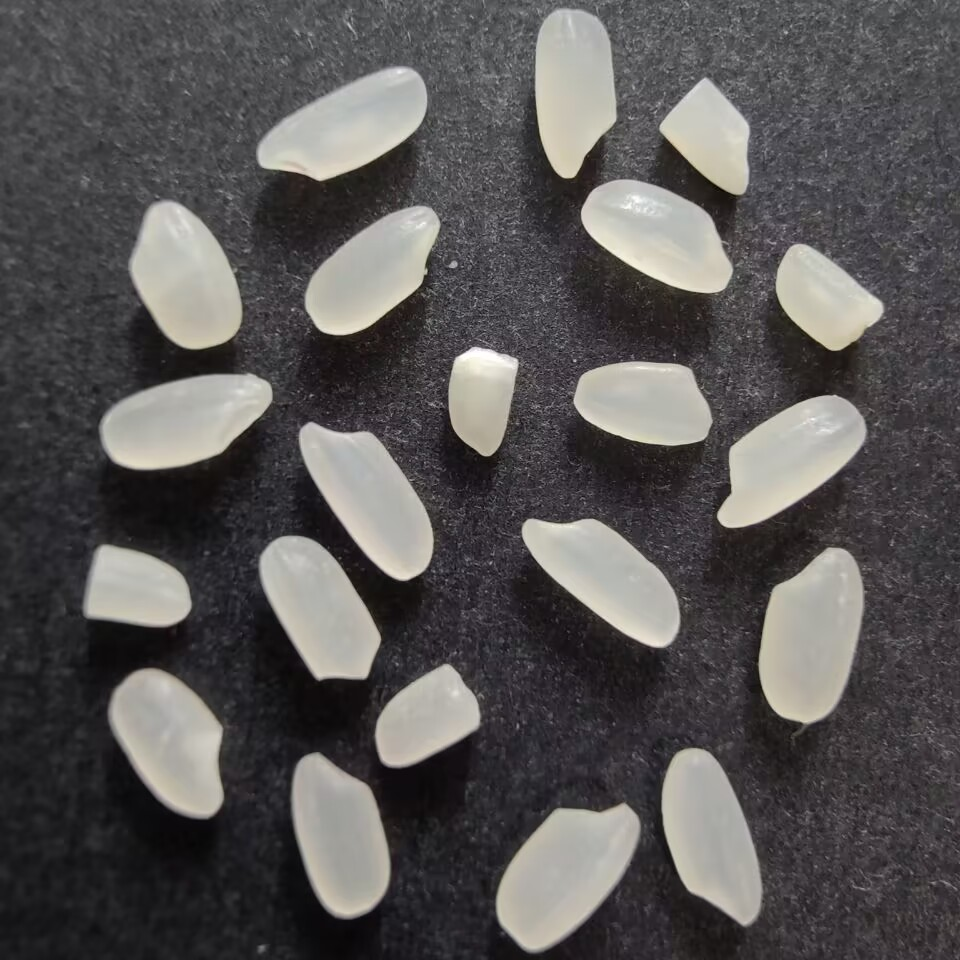broken: (773, 239, 887, 354), (371, 659, 483, 772), (657, 74, 757, 197), (79, 544, 194, 631), (443, 342, 520, 461)
rice: (296, 418, 437, 584), (518, 512, 682, 651), (495, 799, 641, 954), (713, 390, 870, 531), (251, 64, 430, 184), (755, 544, 867, 726), (253, 534, 384, 687), (106, 666, 229, 822), (660, 746, 764, 930), (301, 202, 443, 336), (94, 369, 276, 472), (576, 178, 732, 297), (125, 198, 243, 353), (289, 749, 395, 920), (529, 7, 619, 181), (571, 360, 716, 448)
